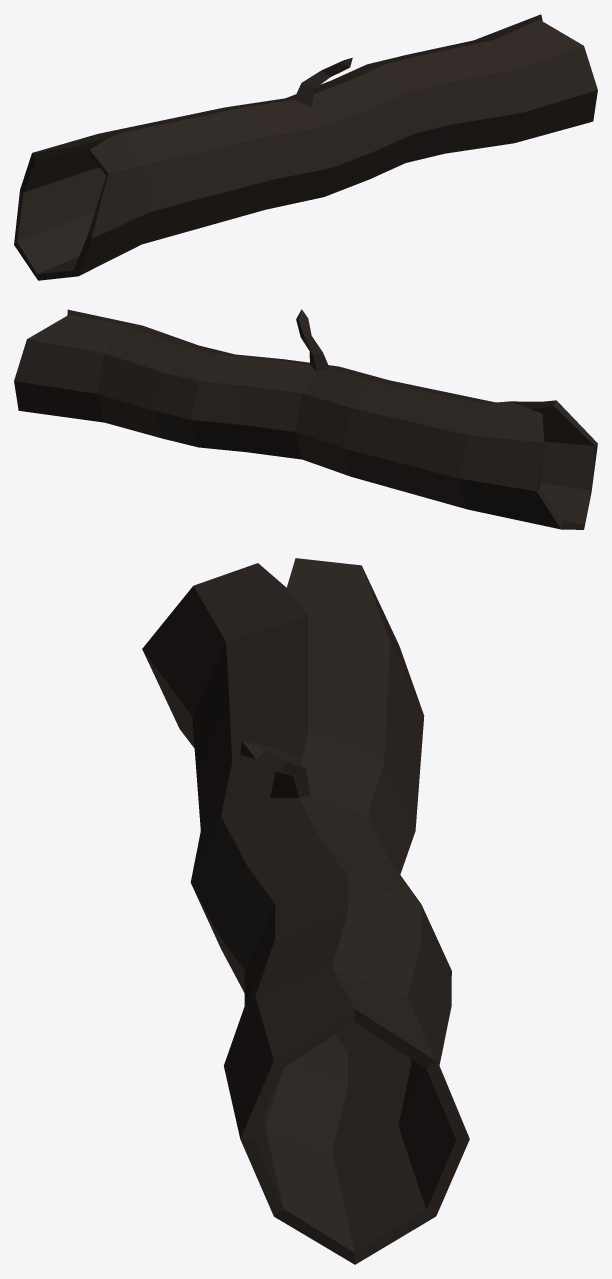
File: kloda.fbx
3 renders of one model, top to bottom at view 1: azimuth 30°, elevation 25°; view 2: azimuth 150°, elevation 25°; view 3: azimuth 270°, elevation 25°, orthographic. The views are drawn at different scales.
Parts seen in each view (by area): view 1: Cylinder.008; view 2: Cylinder.008; view 3: Cylinder.008.
Part boxes in pixels (left/top/right/bottom): Cylinder.008: left=14, top=14, right=597, bottom=280; Cylinder.008: left=14, top=309, right=597, bottom=529; Cylinder.008: left=142, top=558, right=469, bottom=1264.
Bounding box in the file's own units: 152 × 38.71 × 39.64.
